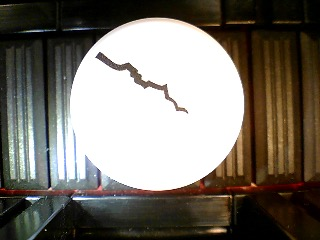CRACK: (69, 17, 245, 191)
